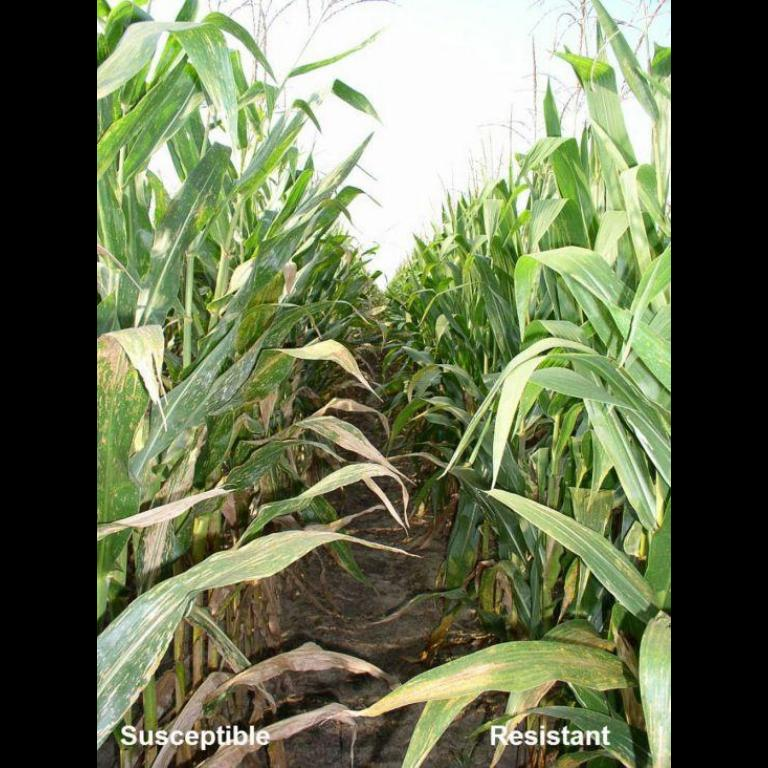blight: (318, 413, 394, 463)
